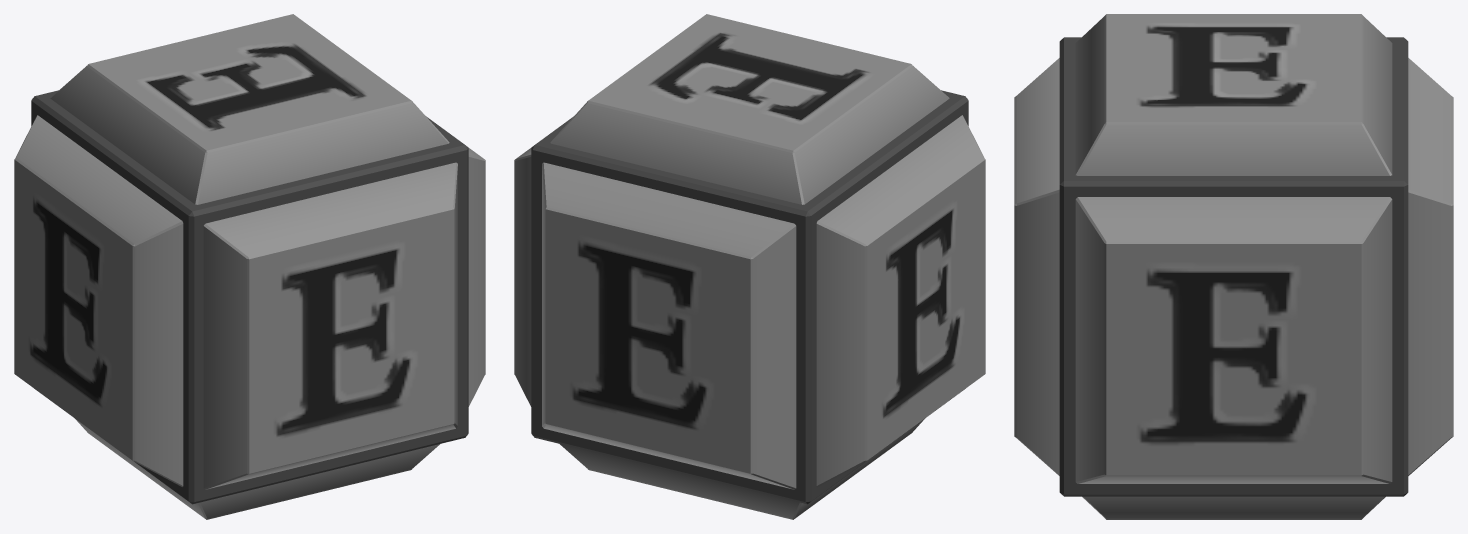
3 views of the same model, side by side, from view 1: azimuth 30°, elevation 25°; view 2: azimuth 150°, elevation 25°; view 3: azimuth 270°, elevation 25° (orthographic). The views are drawn at different scales.
Visible parts, largest first — view 1: E; view 2: E; view 3: E.
Boxes of the visible parts, bbox=[...] form: E: bbox=[14, 14, 485, 519]; E: bbox=[514, 14, 985, 519]; E: bbox=[1014, 14, 1453, 519].
Bounding box in the file's own units: 101 × 101 × 101.
